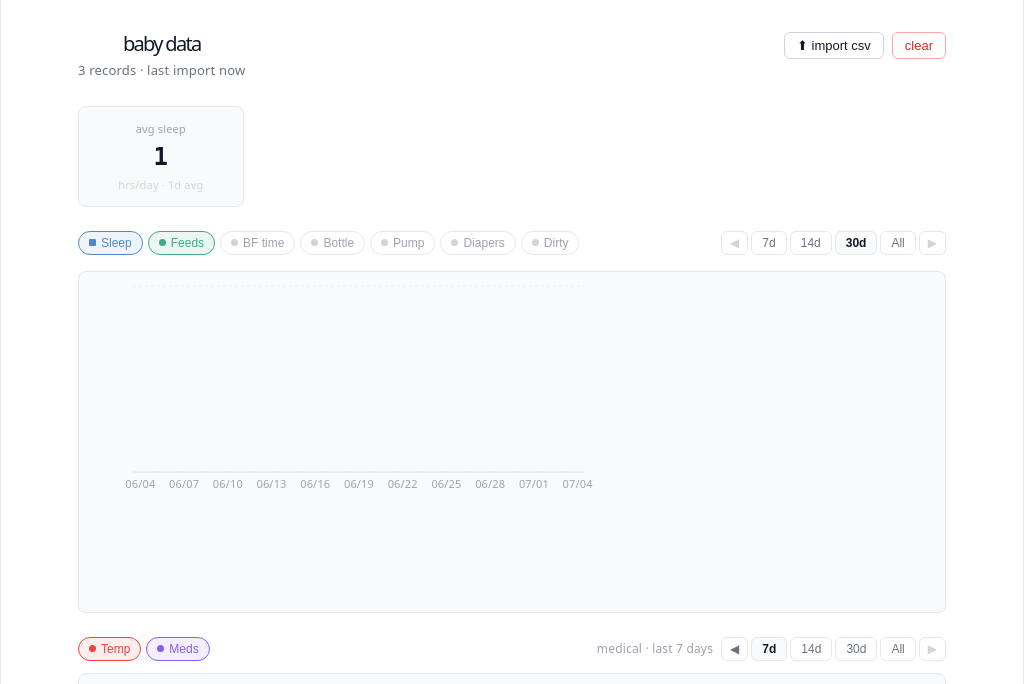
NaraAnalytics window paging › "All" disables both arrows
This screenshot has width=1024, height=684.
Click the button "All" in the row of "last 7 days". click: (898, 649)
box: x1=880 y1=637 x2=916 y2=661
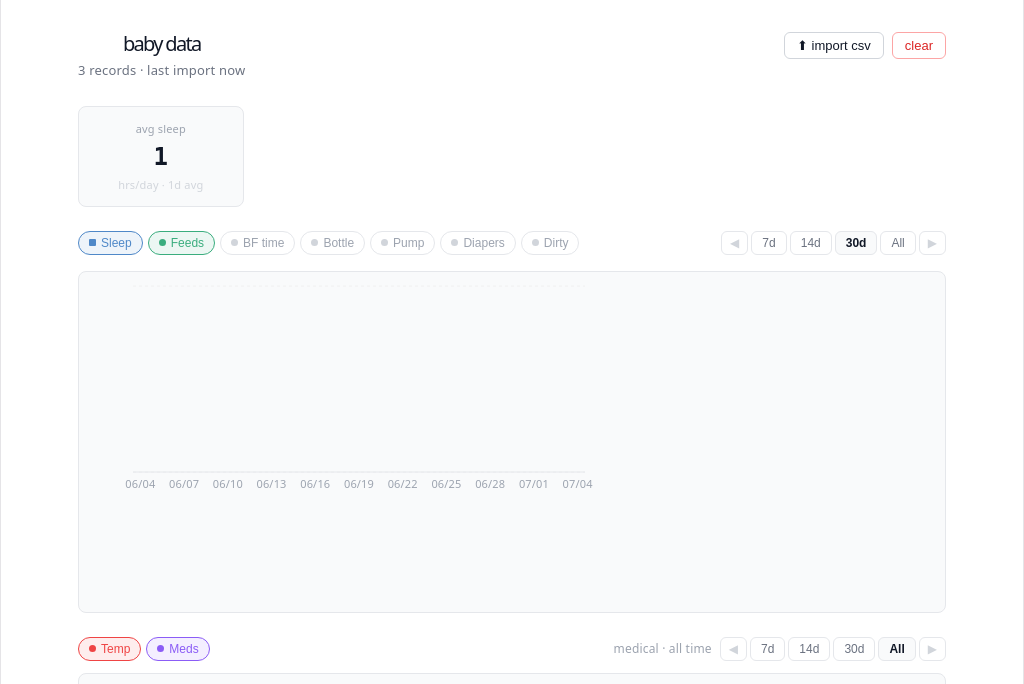
Check: the button named "later" is disabled, box x1=919 y1=637 x2=946 y2=661
Check: the button named "earlier" is disabled, box x1=720 y1=637 x2=747 y2=661
